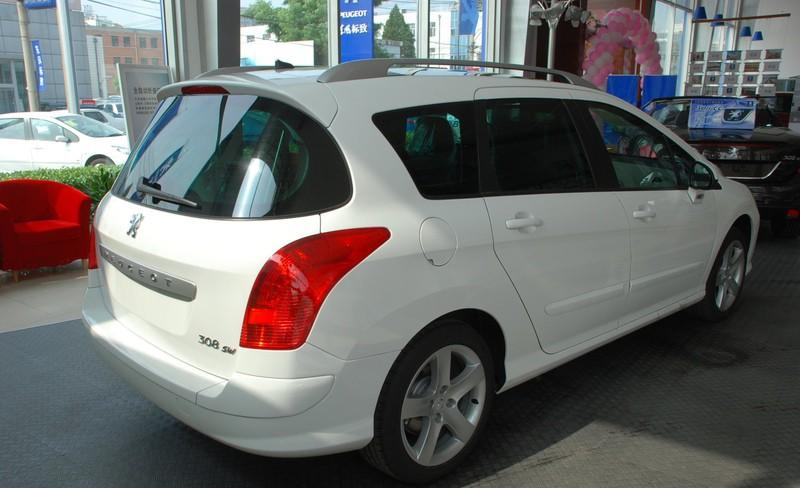Wagon: (78, 57, 760, 487)
